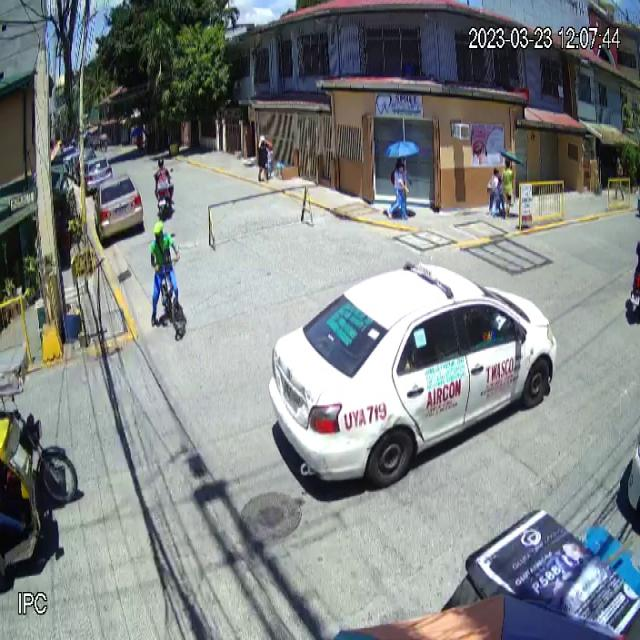Car: (268, 260, 560, 490), (94, 173, 144, 243)
